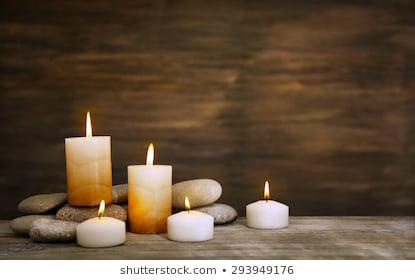fire: (143, 141, 157, 168), (81, 109, 93, 140), (259, 176, 270, 203), (95, 196, 106, 218), (182, 193, 191, 211)
